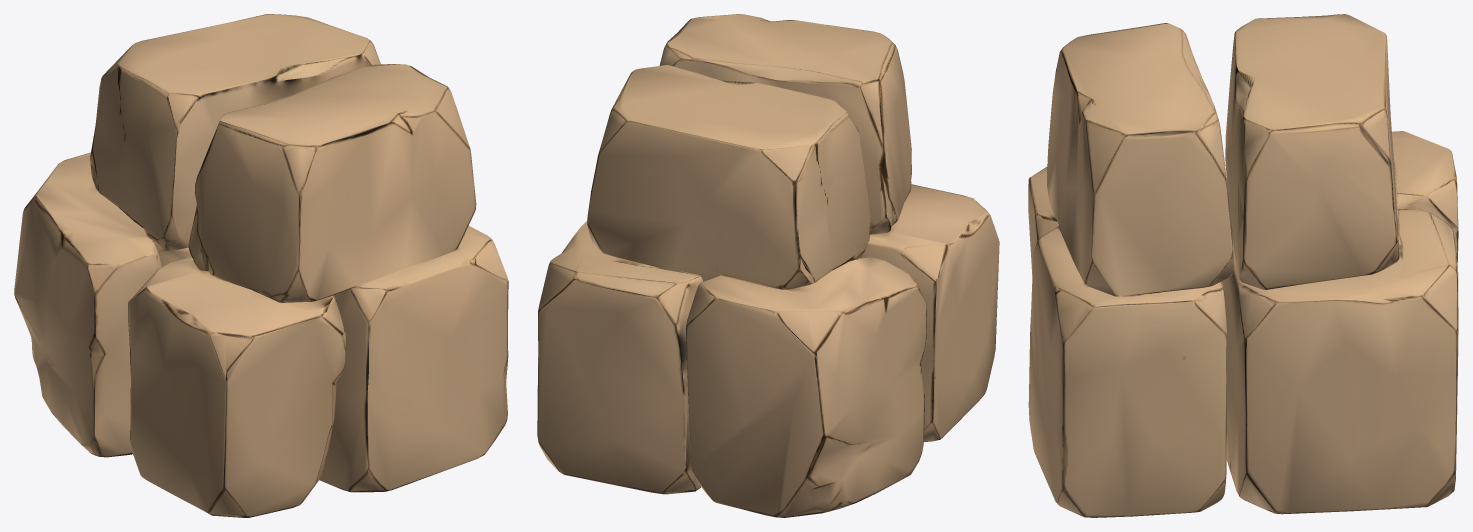
Rendered from cliff_rock.glb.
The picture shows the model from 3 angles, left to right: view 1: azimuth 30°, elevation 25°; view 2: azimuth 150°, elevation 25°; view 3: azimuth 270°, elevation 25°; orthographic projection. The views are drawn at different scales.
Visible parts, largest first — view 1: cliff_rock; view 2: cliff_rock; view 3: cliff_rock.
Part boxes in pixels (x1,y1,x2,y2): cliff_rock: (14,14,508,517); cliff_rock: (537,14,999,517); cliff_rock: (1028,14,1458,517).
Bounding box in the file's own units: 3.75 × 3.86 × 4.
Materials: 1 (1 with a texture image).
